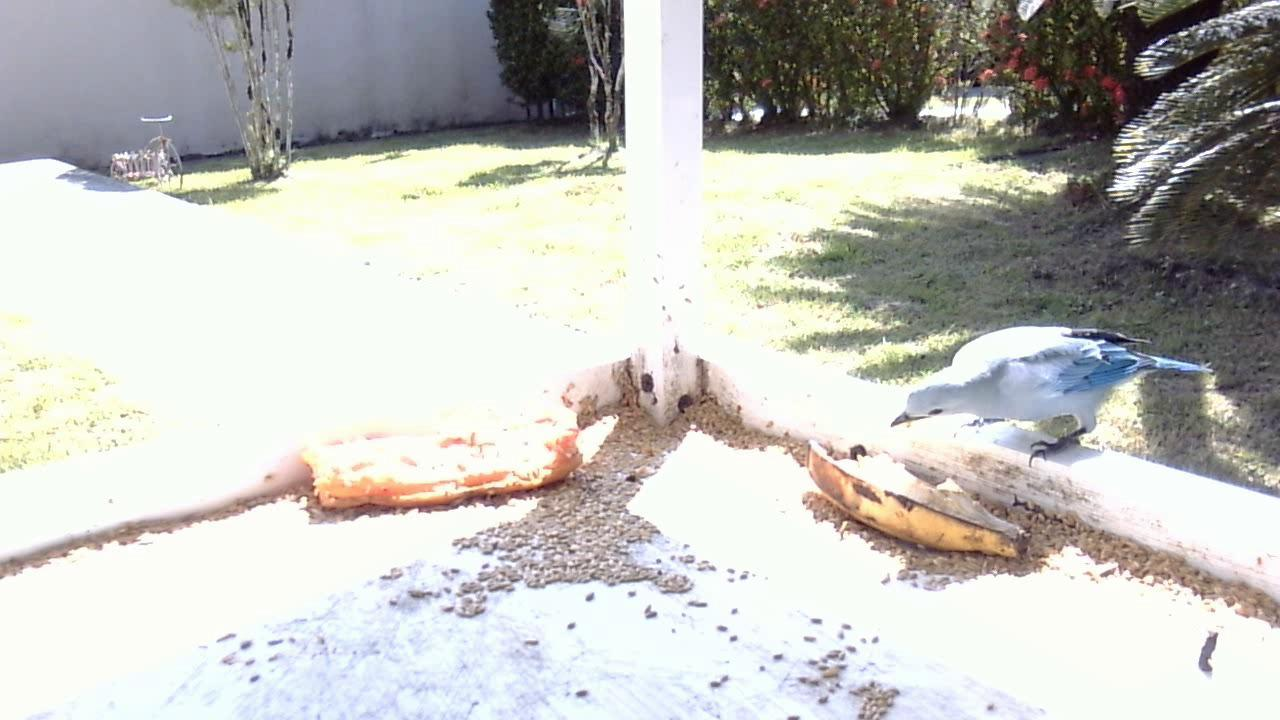sanhaco_da_amazonia: (881, 315, 1213, 477)
